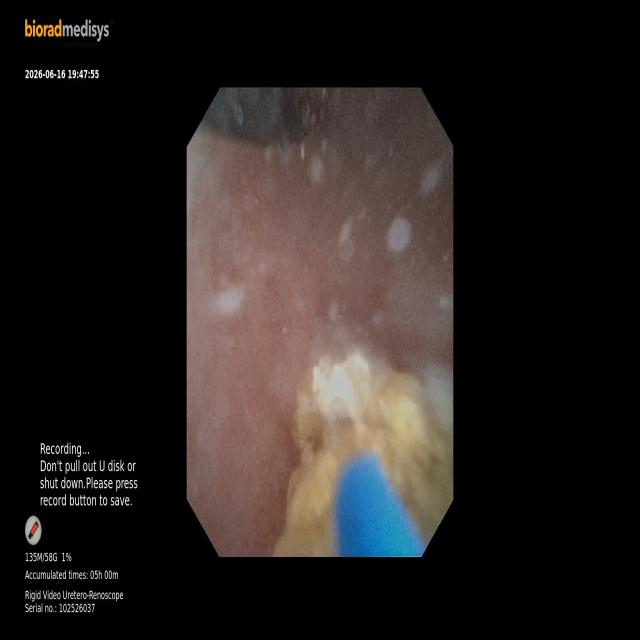laser_dot: (321, 366, 354, 407)
stone-new: (274, 349, 452, 554)
